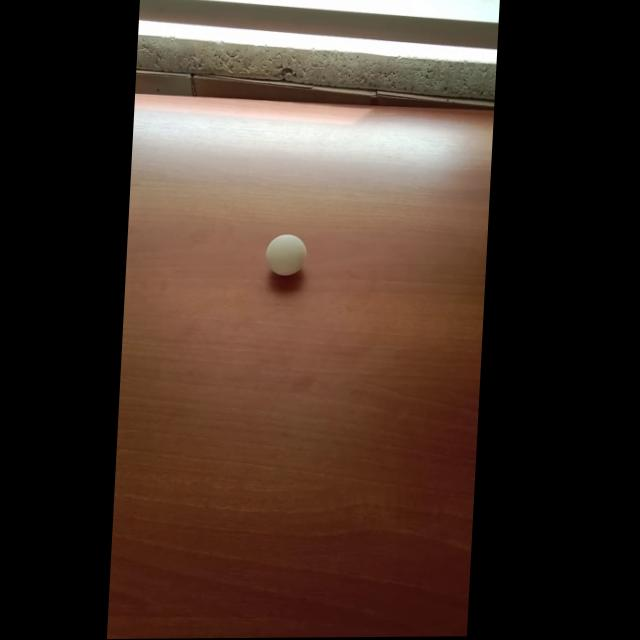white ball: (264, 233, 308, 276)
